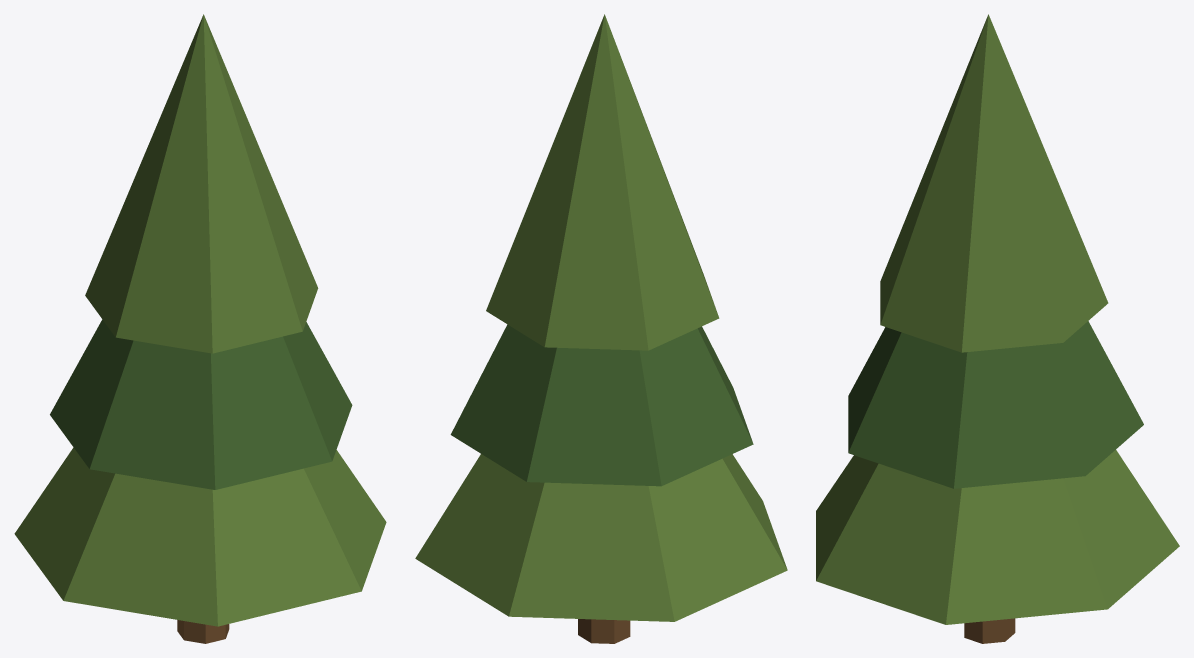
The model's file is pine_tree_a.glb.
The picture shows the model from 3 angles, left to right: view 1: azimuth 30°, elevation 25°; view 2: azimuth 150°, elevation 25°; view 3: azimuth 270°, elevation 25°; orthographic projection.
Visible parts, largest first — view 1: pine_tree_a; view 2: pine_tree_a; view 3: pine_tree_a.
Boxes of the visible parts, x1,y1,x2,y2 form: pine_tree_a: (14, 14, 386, 643); pine_tree_a: (415, 14, 787, 643); pine_tree_a: (816, 14, 1179, 643).
Bounding box in the file's own units: 2.92 × 5.35 × 2.85.
